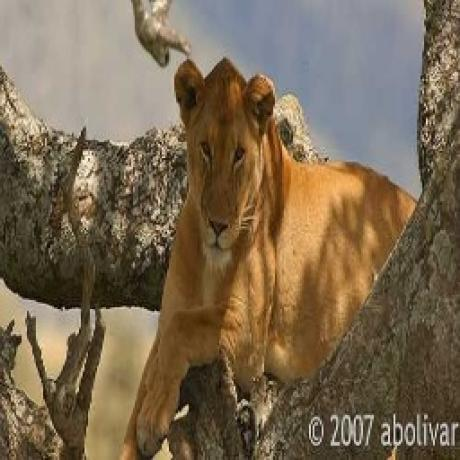Lion: (121, 54, 418, 460)
